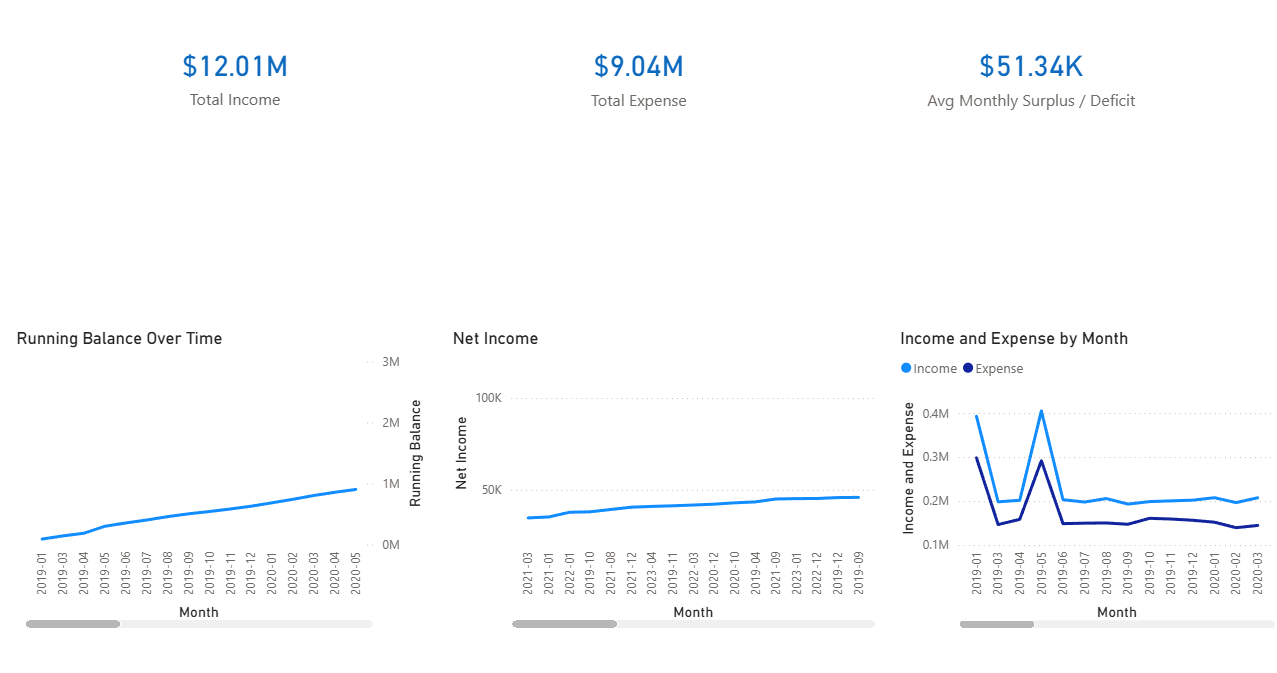

The page's visual inventory and layout, read from the dashboard file:
{"tool":"powerbi","page":{"name":"Income vs. Expense","canvas":[1280,720],"ordinal":1},"visuals":[{"type":"card","fields":{"Values":["Sum(public income_vs_expense.total_income)"]},"box":[110.7,1.2,258.7,211.5],"z":0},{"type":"card","fields":{"Values":["Sum(public income_vs_expense.total_expense)"]},"box":[515,2.5,253.8,210.2],"z":1000},{"type":"card","fields":{"Values":["Avg(public income_vs_expense.net_income)"]},"box":[896.9,2.5,271.2,210.2],"z":2000},{"type":"lineChart","title":"Running Balance Over Time","fields":{"Category":["public income_vs_expense.year_month"],"Y2":["Sum(public income_vs_expense.running_balance)"]},"box":[17.4,359.5,414.2,303.5],"z":3000},{"type":"lineChart","title":"Net Income","fields":{"Category":["public income_vs_expense.year_month"],"Y":["Sum(public income_vs_expense.net_income)"]},"box":[451.6,359.5,430.4,303.5],"z":4000},{"type":"lineChart","fields":{"Category":["public income_vs_expense.year_month"],"Y":["Sum(public income_vs_expense.total_income)","Sum(public income_vs_expense.total_expense)"]},"box":[896.9,359.5,383.1,303.5],"z":5000}]}

Visuals, with their boxes on the page's 1280x720 design canvas (x1, y1, x2, y2). These are canvas units, not pixel positions in the 1277x673 screenshot, which may show the page scaled, cropped or inside an application window:
card - Sum(public income_vs_expense.total_income): select_region(111, 1, 369, 213)
card - Sum(public income_vs_expense.total_expense): select_region(515, 2, 769, 213)
card - Avg(public income_vs_expense.net_income): select_region(897, 2, 1168, 213)
"Running Balance Over Time" lineChart: select_region(17, 360, 432, 663)
"Net Income" lineChart: select_region(452, 360, 882, 663)
lineChart - public income_vs_expense.year_month x Sum(public income_vs_expense.total_income): select_region(897, 360, 1280, 663)
